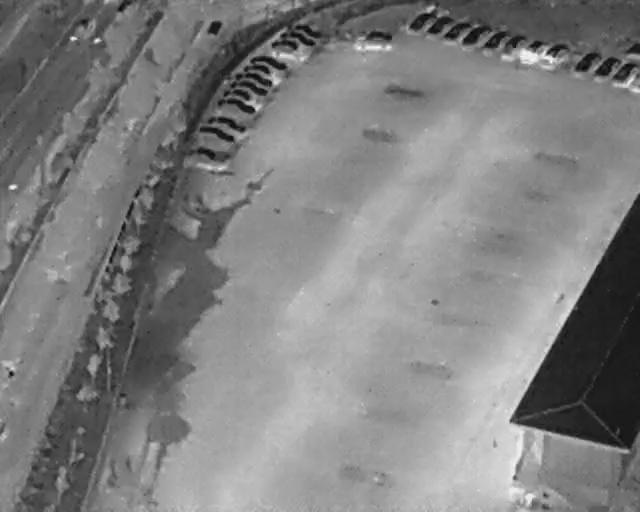Car: (180, 143, 232, 174), (478, 21, 514, 59), (515, 32, 551, 70), (204, 109, 251, 138), (213, 91, 260, 120), (457, 17, 494, 53), (495, 27, 529, 66), (537, 35, 572, 71), (570, 44, 604, 81), (589, 50, 623, 87), (194, 122, 237, 148), (439, 14, 472, 47), (607, 56, 639, 90), (404, 5, 437, 37), (228, 76, 271, 99), (234, 67, 277, 90), (352, 27, 393, 51), (423, 10, 454, 40), (249, 51, 289, 74), (278, 26, 318, 49), (223, 84, 260, 106), (293, 19, 329, 41), (269, 35, 304, 56), (243, 59, 277, 79), (72, 16, 98, 39), (630, 67, 639, 91)
